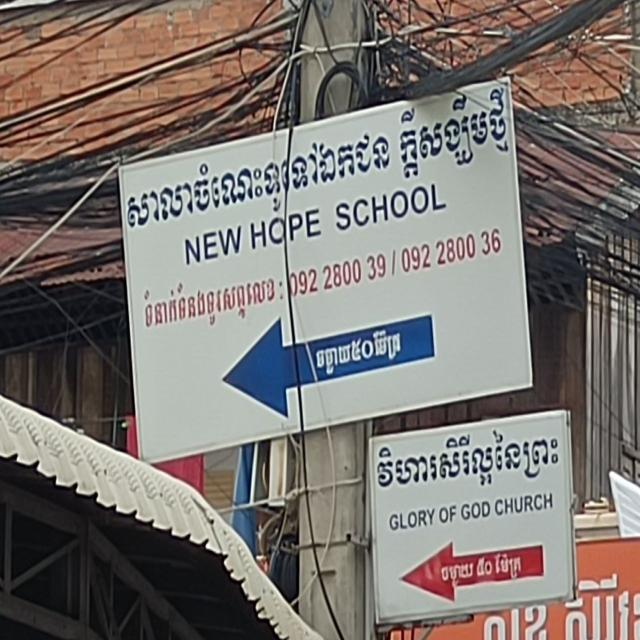1: (120, 82, 514, 242)
893: (310, 322, 406, 379)
Yolov11_80vkh: (372, 421, 562, 500), (136, 261, 282, 342), (438, 548, 527, 592)
